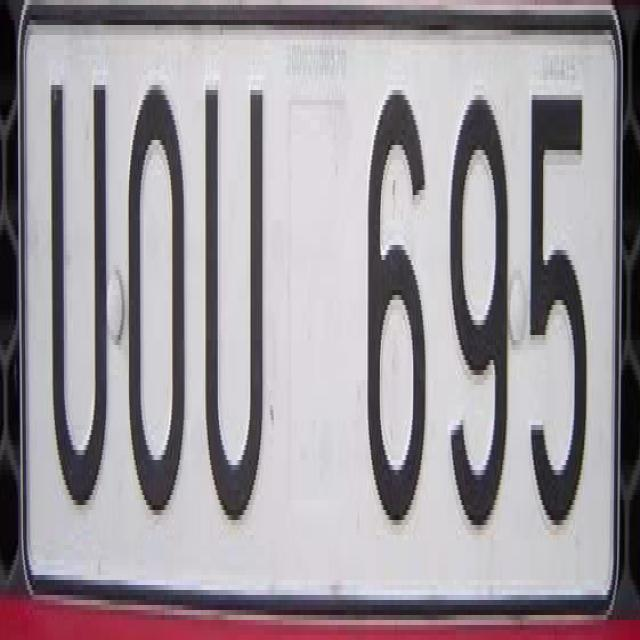Autre: (16, 25, 630, 618)
